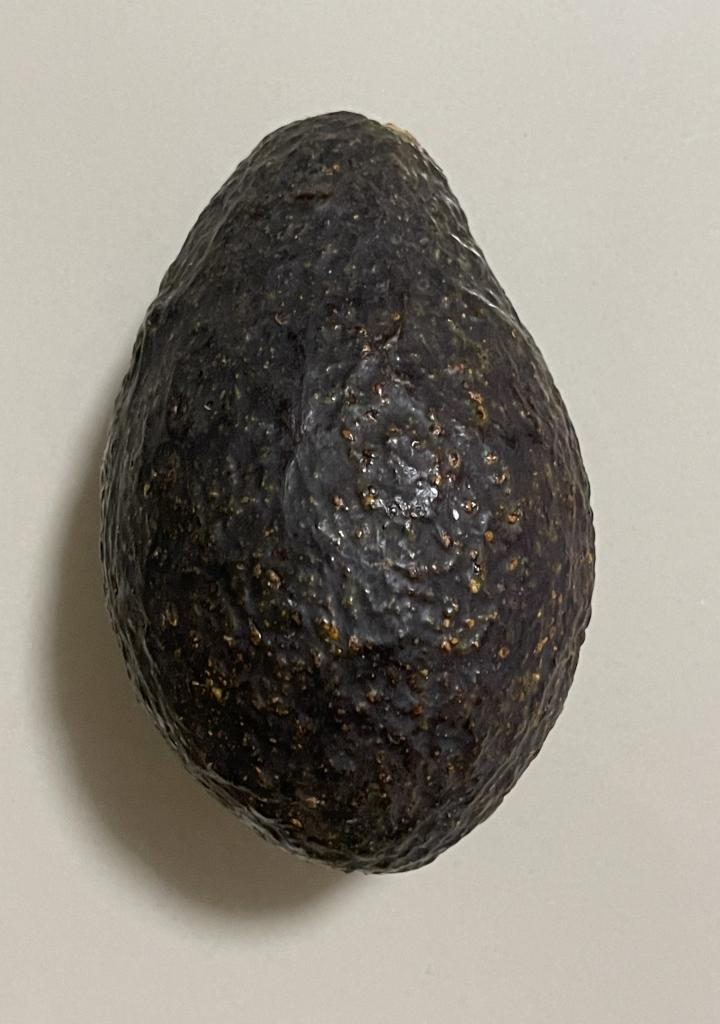Level2: (88, 104, 604, 881)
